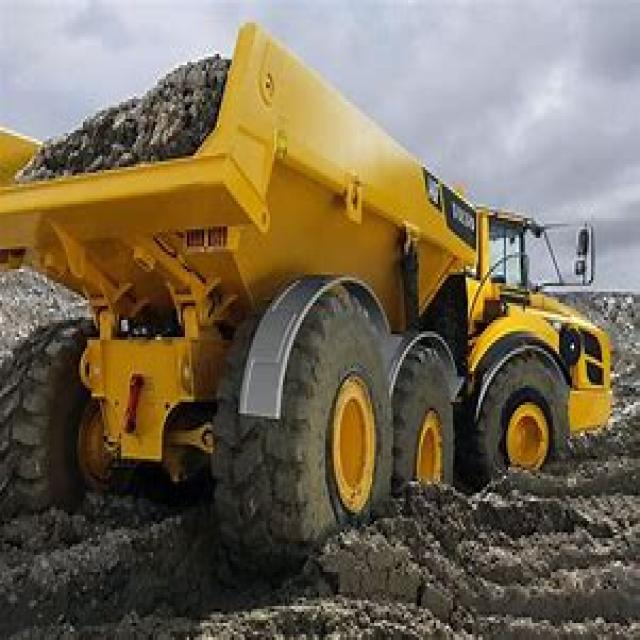dump_truck: (7, 14, 610, 575)
